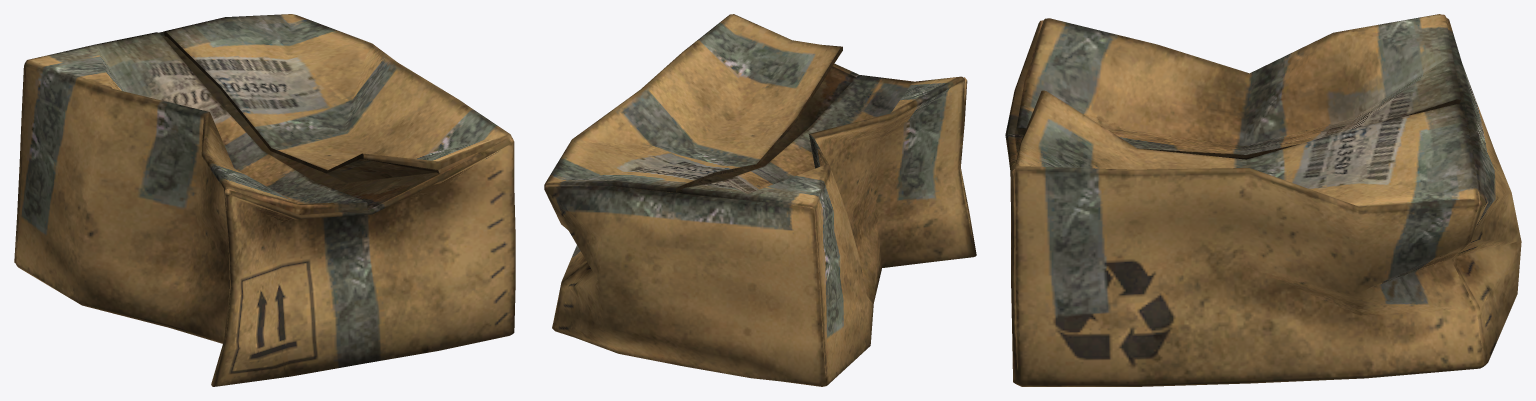
File: cardboardBox04_a.FBX
3 renders of one model, left to right at view 1: azimuth 30°, elevation 25°; view 2: azimuth 150°, elevation 25°; view 3: azimuth 270°, elevation 25°, orthographic. The views are drawn at different scales.
Parts seen in each view (by area): view 1: SM_CardboardBox04; view 2: SM_CardboardBox04; view 3: SM_CardboardBox04.
Part boxes in pixels (x1=…): SM_CardboardBox04: x1=14, y1=14, x2=515, y2=386; SM_CardboardBox04: x1=544, y1=14, x2=976, y2=386; SM_CardboardBox04: x1=1005, y1=14, x2=1521, y2=386.
Bounding box in the file's own units: 40.46 × 25.68 × 51.62.
1 material, 1 textured.
